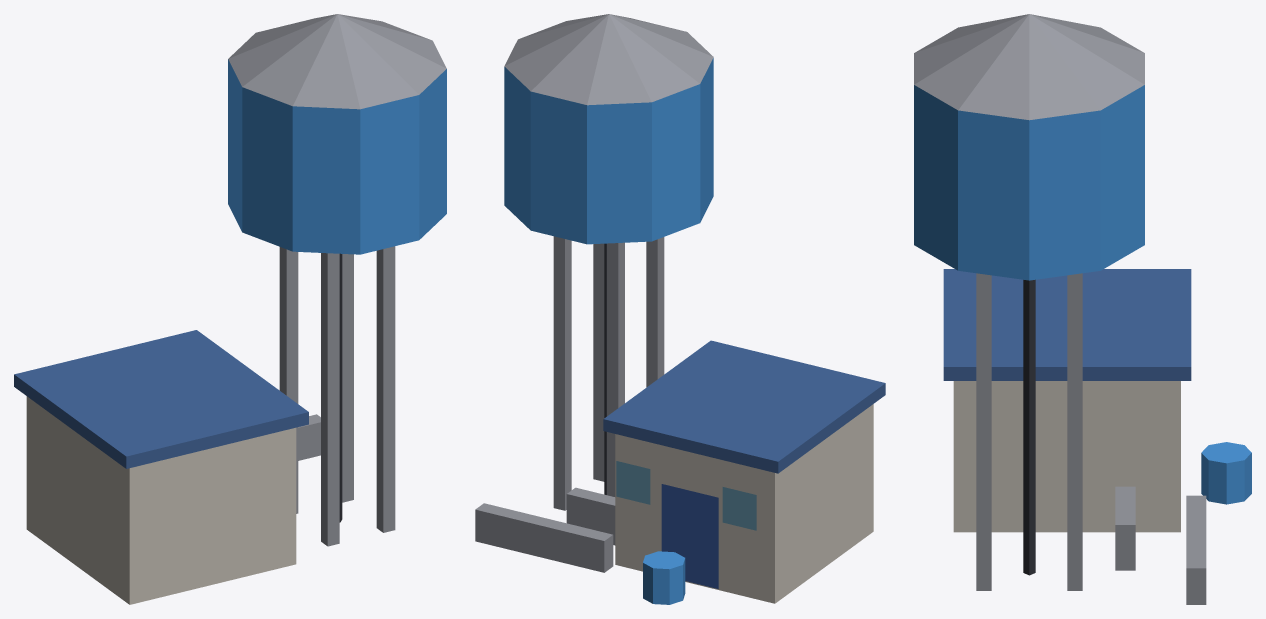
File: Svc_water_pump.fbx
3 views of the same model, side by side, from view 1: azimuth 30°, elevation 25°; view 2: azimuth 150°, elevation 25°; view 3: azimuth 270°, elevation 25° (orthographic). The views are drawn at different scales.
Parts seen in each view (by area): view 1: Svc_water_pump_LOD0; view 2: Svc_water_pump_LOD0; view 3: Svc_water_pump_LOD0.
Part boxes in pixels (x1,y1,x2,y2): Svc_water_pump_LOD0: [14, 14, 446, 604]; Svc_water_pump_LOD0: [475, 14, 885, 604]; Svc_water_pump_LOD0: [914, 14, 1251, 604].
Size of what is drawn, in the model's own units: 870 by 1220 by 668.
1 material, 1 textured.
